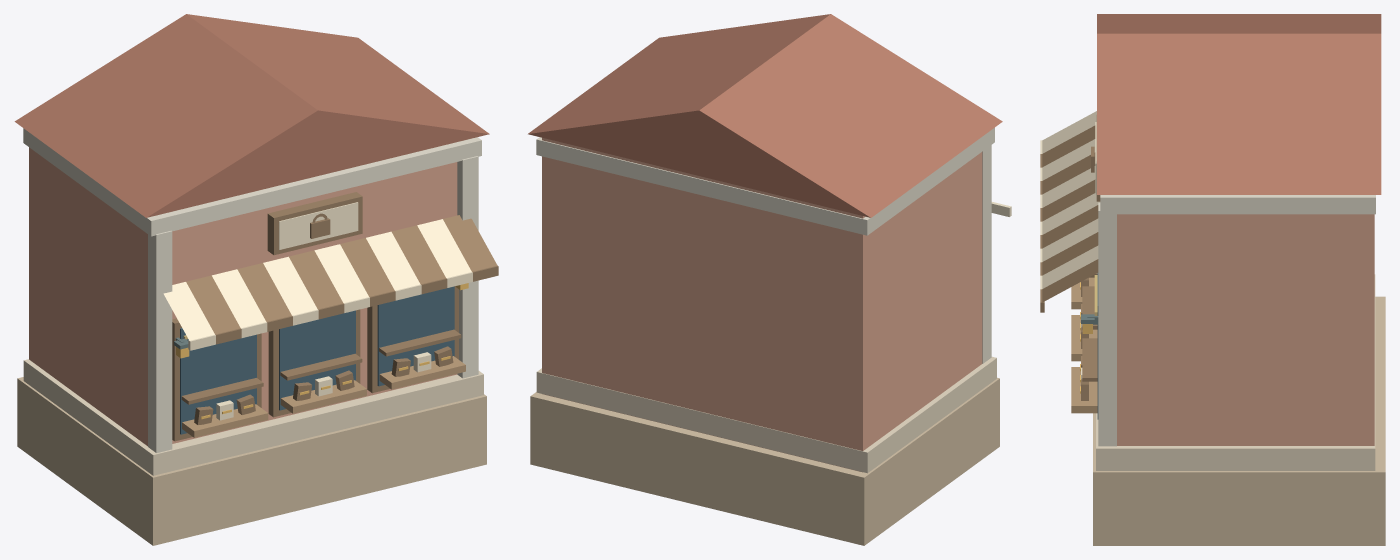
File: Bags.glb
The picture shows the model from 3 angles, left to right: view 1: azimuth 30°, elevation 25°; view 2: azimuth 150°, elevation 25°; view 3: azimuth 270°, elevation 25°; orthographic projection. The views are drawn at different scales.
Visible parts, largest first — view 1: Bags; view 2: Bags; view 3: Bags.
Part boxes in pixels (left/top/right/bottom): Bags: left=14, top=14, right=498, bottom=545; Bags: left=528, top=14, right=1011, bottom=545; Bags: left=1040, top=14, right=1385, bottom=545.
Bounding box in the file's own units: 6.96 × 7.61 × 5.62.
